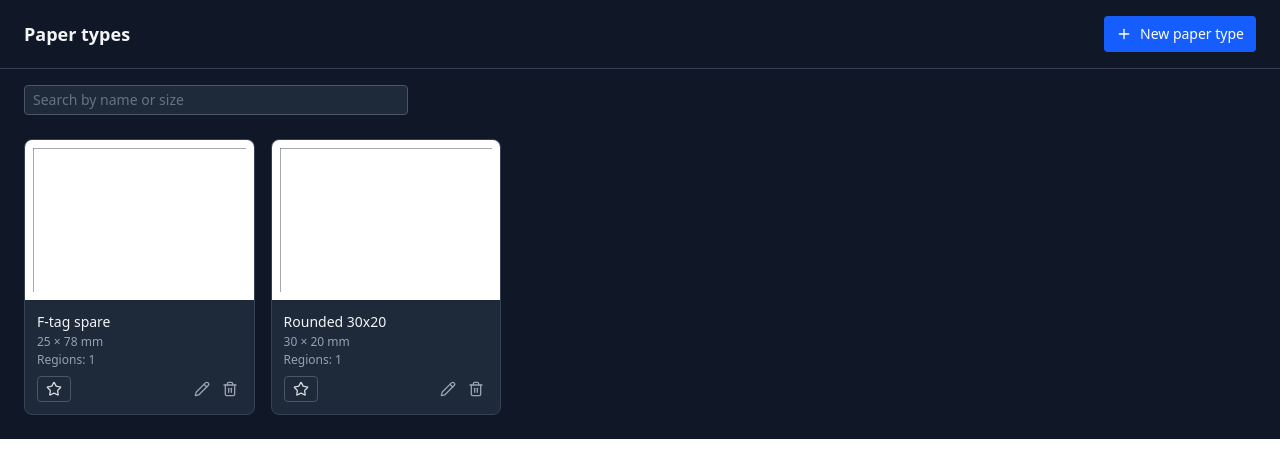
Test: PaperTypeSection › narrows the grid through the search input
Expected: the text "F-tag spare" is shown, [37,312,110,332]
Type "30x20" into the field labelled "Search by name or size" at (216, 100), box [24,85,408,115]
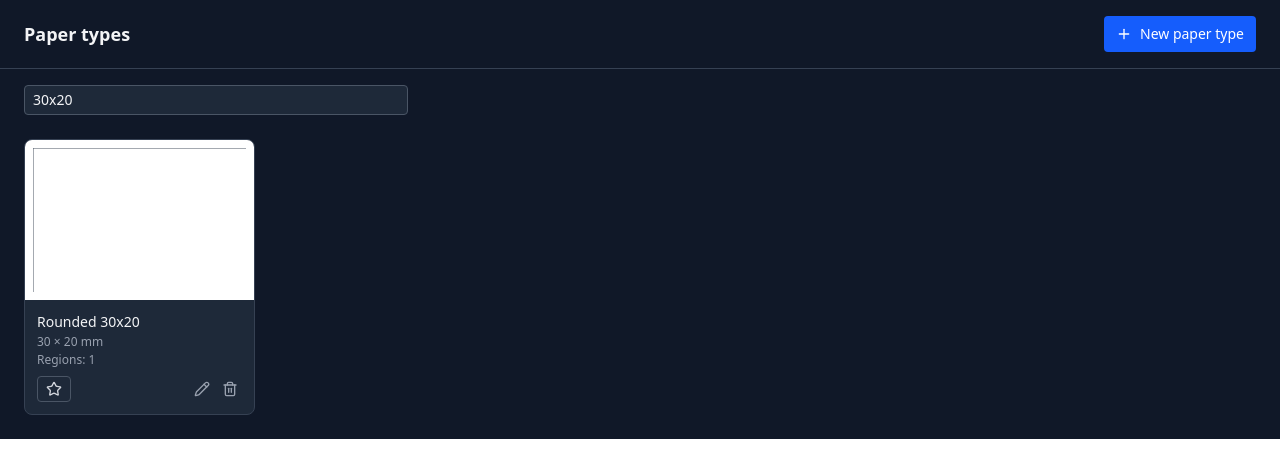
Expected: the text "Rounded 30x20" is shown, [37,312,140,332]
Now the text "F-tag spare" is gone
